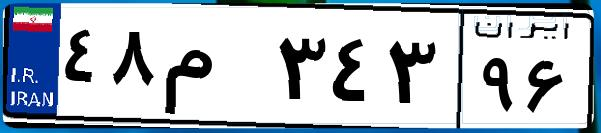3: (270, 28, 330, 110), (385, 28, 445, 110)
4: (330, 28, 385, 110), (57, 26, 110, 100)
6: (525, 38, 570, 115)
8: (110, 28, 158, 98)
9: (475, 38, 525, 113)
م: (158, 20, 270, 120)
